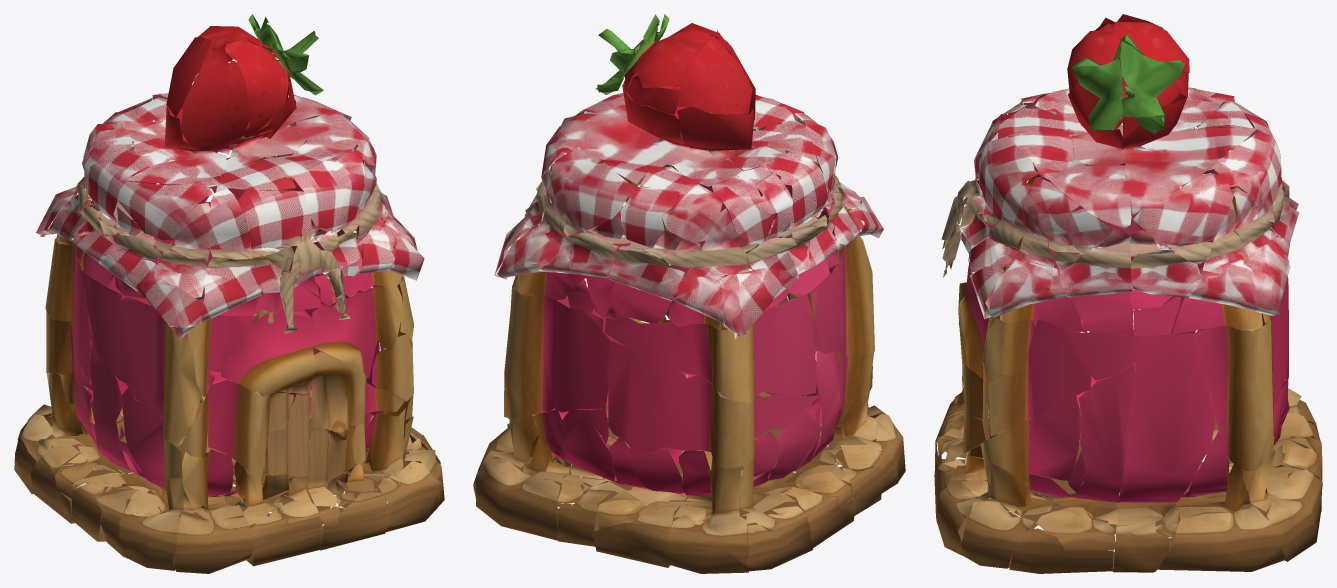
Rendered from jam-jar-apothecary.glb.
3 renders of one model, left to right at view 1: azimuth 30°, elevation 25°; view 2: azimuth 150°, elevation 25°; view 3: azimuth 270°, elevation 25°, orthographic. The views are drawn at different scales.
Parts seen in each view (by area): view 1: Mesh_0; view 2: Mesh_0; view 3: Mesh_0.
Part boxes in pixels (x1,y1,x2,y2): Mesh_0: (14,14,444,573); Mesh_0: (473,14,905,573); Mesh_0: (934,14,1322,573).
Size of the model in its own units: 1.39 by 1.89 by 1.39.
Materials: 1 (1 with a texture image).
